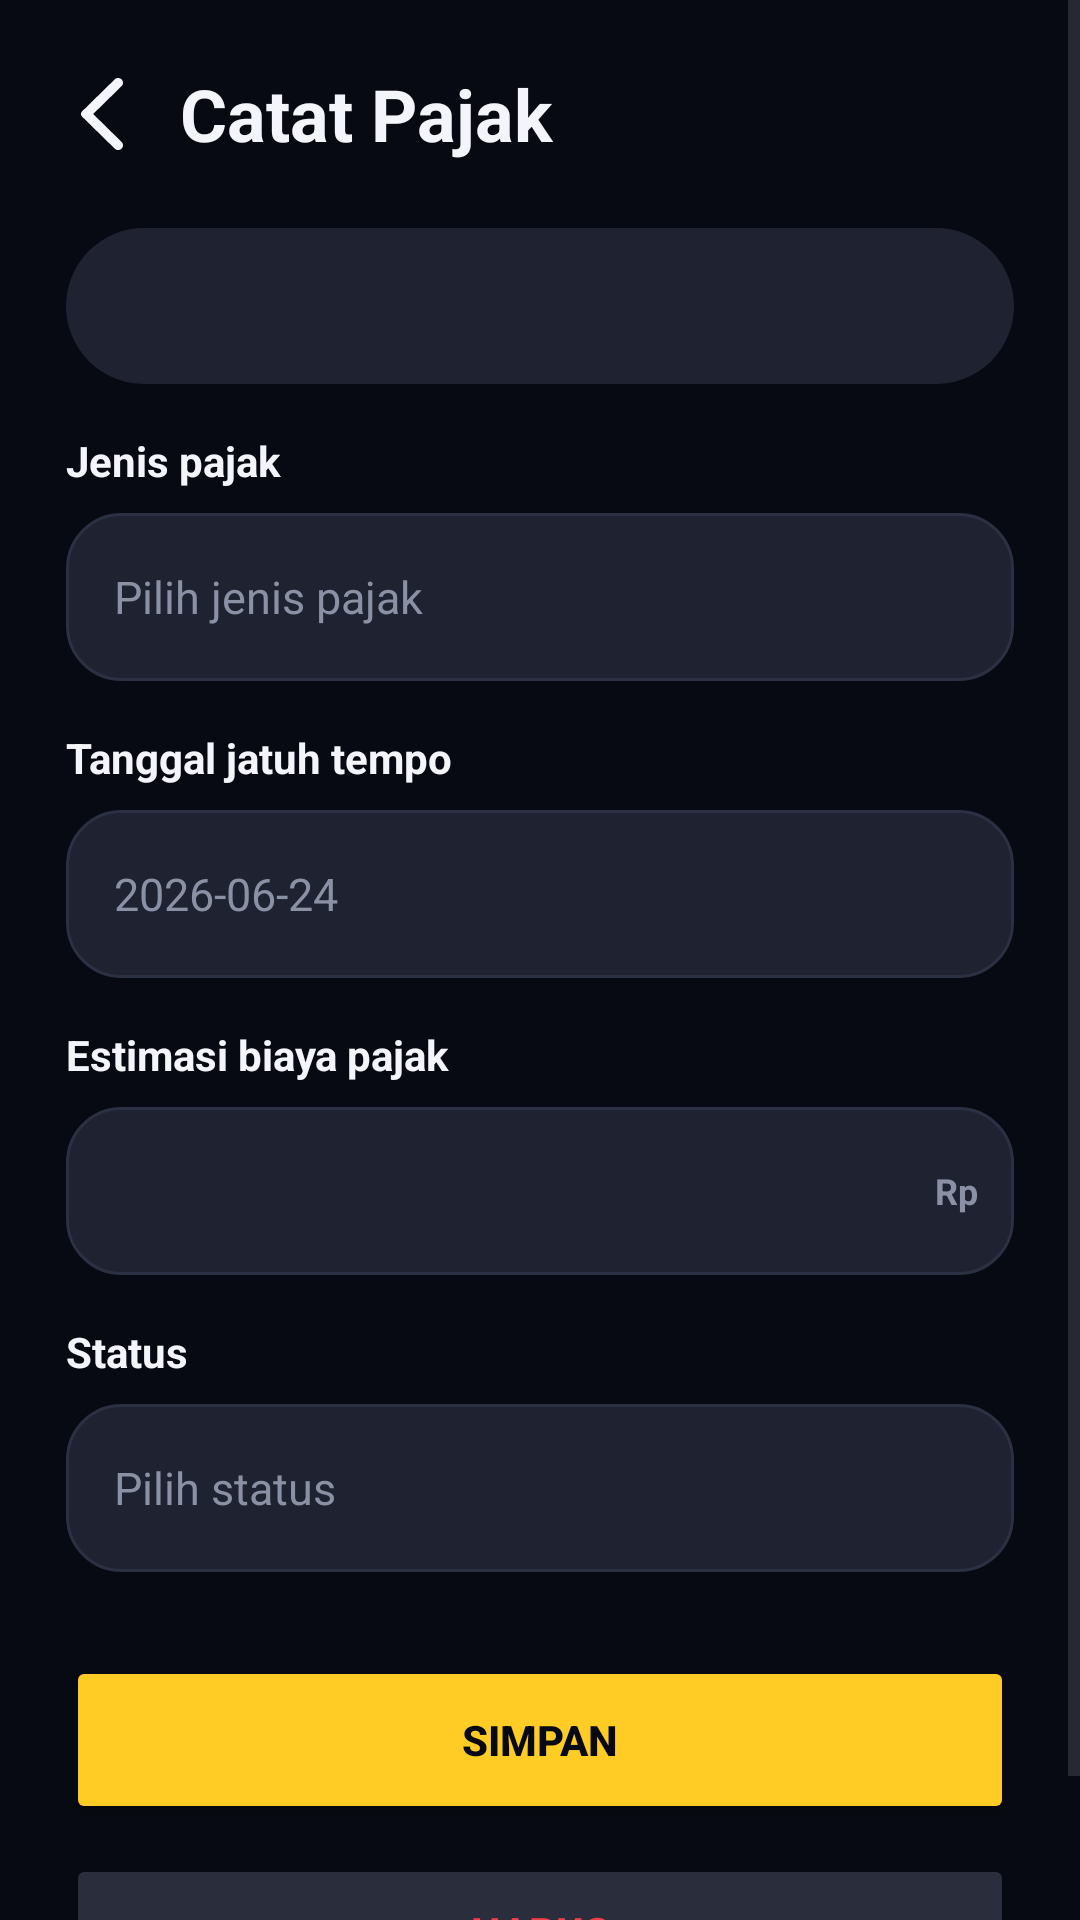

Icons on this 1080 x 1920 Android screen, each with the point to tap as (x=x, y=y):
Kembali: (x=102, y=114)
